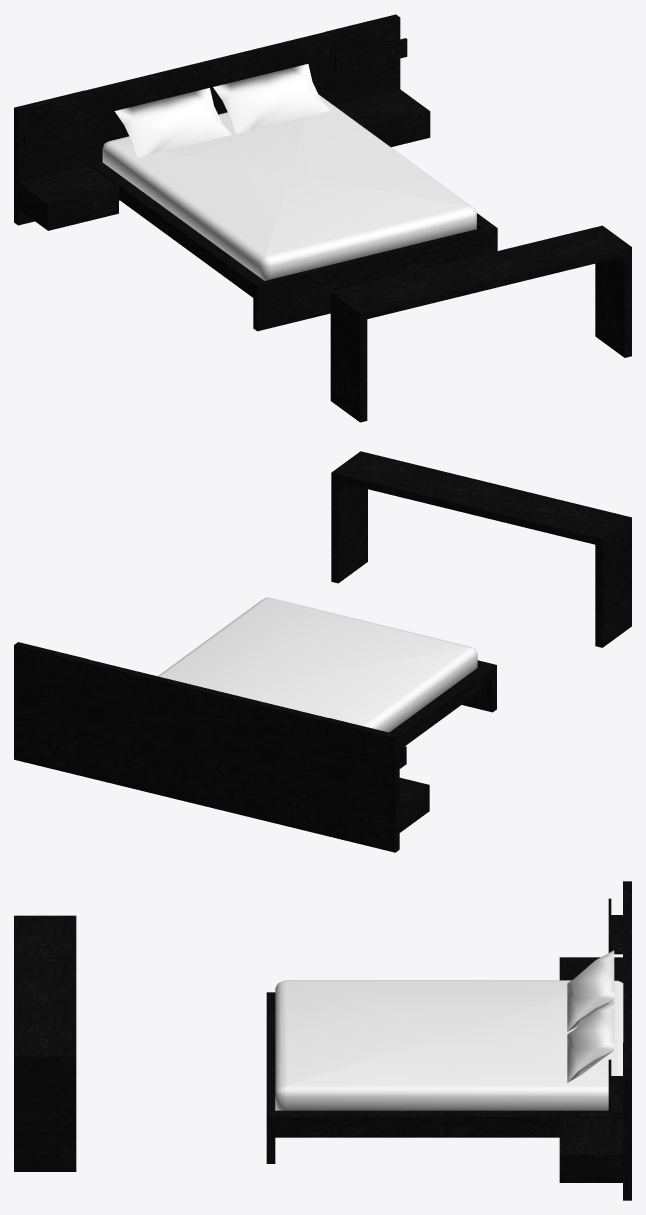
File: IKEA MALM Bedrom Set.dae
3 renders of one model, top to bottom at view 1: azimuth 30°, elevation 25°; view 2: azimuth 150°, elevation 25°; view 3: azimuth 270°, elevation 25°, orthographic. The views are drawn at different scales.
Visible parts, largest first — view 1: IKEA_Sultan_Erfjord_Queen, IKEA_Double_Bedframe_-_MALM_180x200_1, IKEA_Malm_Occasional_Table, pillow_1 (×2), group_0 (×2), group_2 (×2), group_1 (×2), group_4 (×2); view 2: IKEA_Double_Bedframe_-_MALM_180x200_1, IKEA_Sultan_Erfjord_Queen, group_0 (×2), IKEA_Malm_Occasional_Table, group_2; view 3: IKEA_Sultan_Erfjord_Queen, IKEA_Malm_Occasional_Table, IKEA_Double_Bedframe_-_MALM_180x200_1, pillow_1 (×2), group_2 (×2), group_0, group_3 (×2).
Part boxes in pixels (<box>): IKEA_Sultan_Erfjord_Queen: <box>102,94,476,280</box>; IKEA_Double_Bedframe_-_MALM_180x200_1: <box>85,32,497,331</box>; IKEA_Malm_Occasional_Table: <box>330,225,631,422</box>; pillow_1 (×2): <box>114,64,330,157</box>; group_0 (×2): <box>14,14,400,225</box>; group_2 (×2): <box>18,89,428,229</box>; group_1 (×2): <box>47,110,430,230</box>; group_4 (×2): <box>23,38,407,149</box>; IKEA_Double_Bedframe_-_MALM_180x200_1: <box>84,659,496,835</box>; IKEA_Sultan_Erfjord_Queen: <box>158,597,477,732</box>; group_0 (×2): <box>14,642,399,852</box>; IKEA_Malm_Occasional_Table: <box>331,451,631,647</box>; group_2: <box>399,779,428,832</box>; IKEA_Sultan_Erfjord_Queen: <box>275,980,623,1110</box>; IKEA_Malm_Occasional_Table: <box>14,915,76,1171</box>; IKEA_Double_Bedframe_-_MALM_180x200_1: <box>266,918,631,1163</box>; pillow_1 (×2): <box>567,950,614,1082</box>; group_2 (×2): <box>562,957,622,1182</box>; group_0: <box>623,1042,631,1200</box>; group_3 (×2): <box>611,915,622,1115</box>.
Bounding box in the file's own units: 106 × 140 × 30.38.
3 materials, 1 textured.
